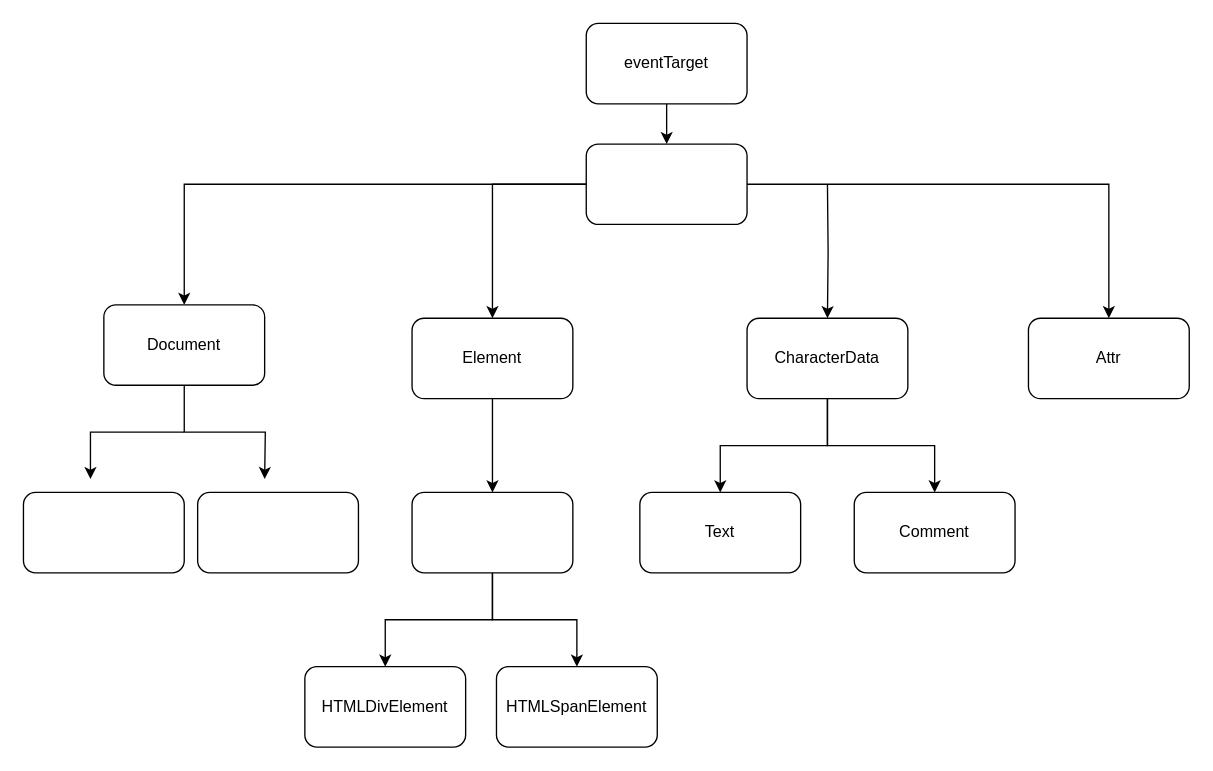
This 1213x771 diagram has some shape labels left out. The shapes that lost their labels are listed below. From the top down, each one's centre as x and y in pixels, then its label:
(x=666, y=183): Node
(x=103, y=532): HTMLDocument
(x=277, y=532): XMLDocument
(x=492, y=532): HTMLElement
